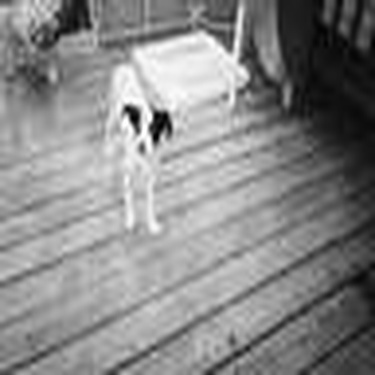dog: (89, 52, 179, 242)
